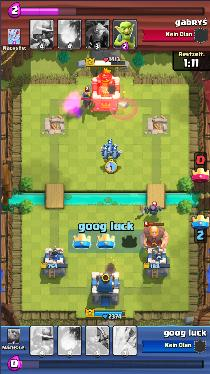ally_minion: (111, 147, 120, 160), (101, 149, 110, 159), (108, 142, 113, 152)
enemy_giant: (141, 226, 169, 249)
enemy_knight: (82, 84, 92, 110)
enemy_mini_pekka: (143, 204, 163, 215)
